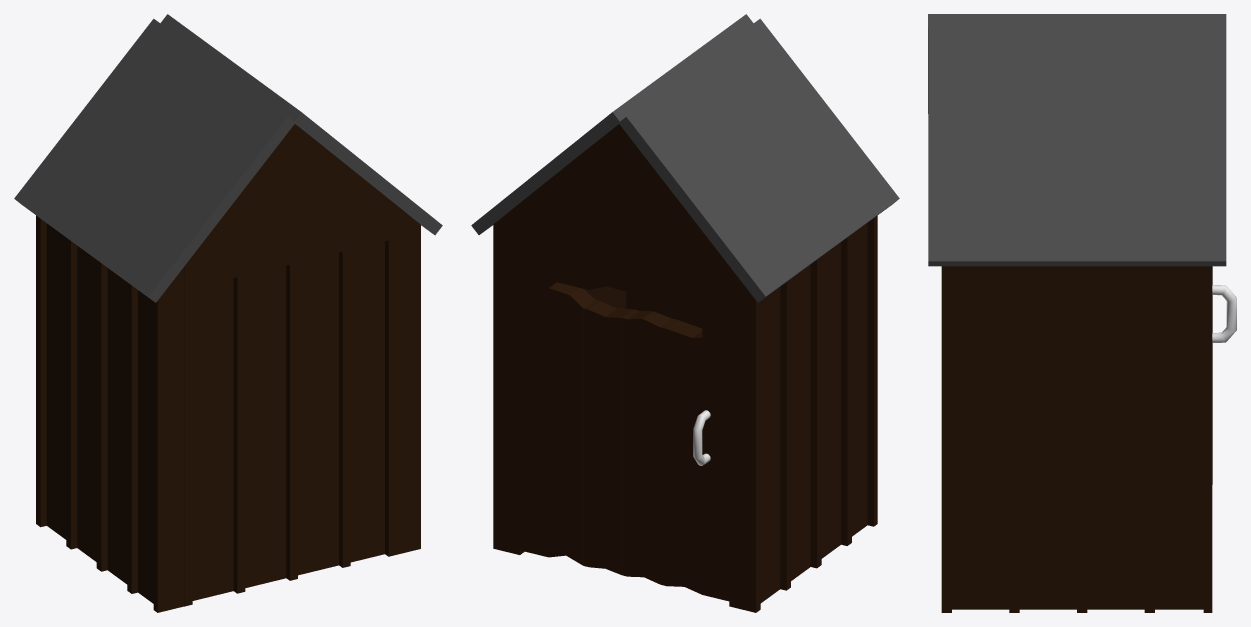
File: Outhouse_FBX.fbx
3 renders of one model, left to right at view 1: azimuth 30°, elevation 25°; view 2: azimuth 150°, elevation 25°; view 3: azimuth 270°, elevation 25°, orthographic. The views are drawn at different scales.
Visible parts, largest first — view 1: Box022, Box023, Box027, Box021, Box026; view 2: Box020, Box023, Box027, Box021, Box026, Box022, Line006; view 3: Box021, Box026, Box027, Line006.
Part boxes in pixels (box(x1,y1,x2,y2)): Box022: box(184, 124, 395, 606); Box023: box(36, 215, 184, 612); Box027: box(14, 18, 294, 302); Box021: box(395, 204, 420, 554); Box026: box(160, 14, 442, 235); Box020: box(520, 124, 729, 601); Box023: box(729, 215, 877, 612); Box027: box(619, 18, 899, 302); Box021: box(493, 203, 626, 554); Box026: box(471, 14, 753, 234); Box022: box(626, 290, 702, 328); Line006: box(693, 410, 710, 465); Box021: box(941, 266, 1212, 612); Box026: box(928, 20, 1226, 266); Box027: box(928, 14, 1226, 113); Line006: box(1212, 285, 1236, 342).
Size of the model in its own units: 153 by 234 by 125.
